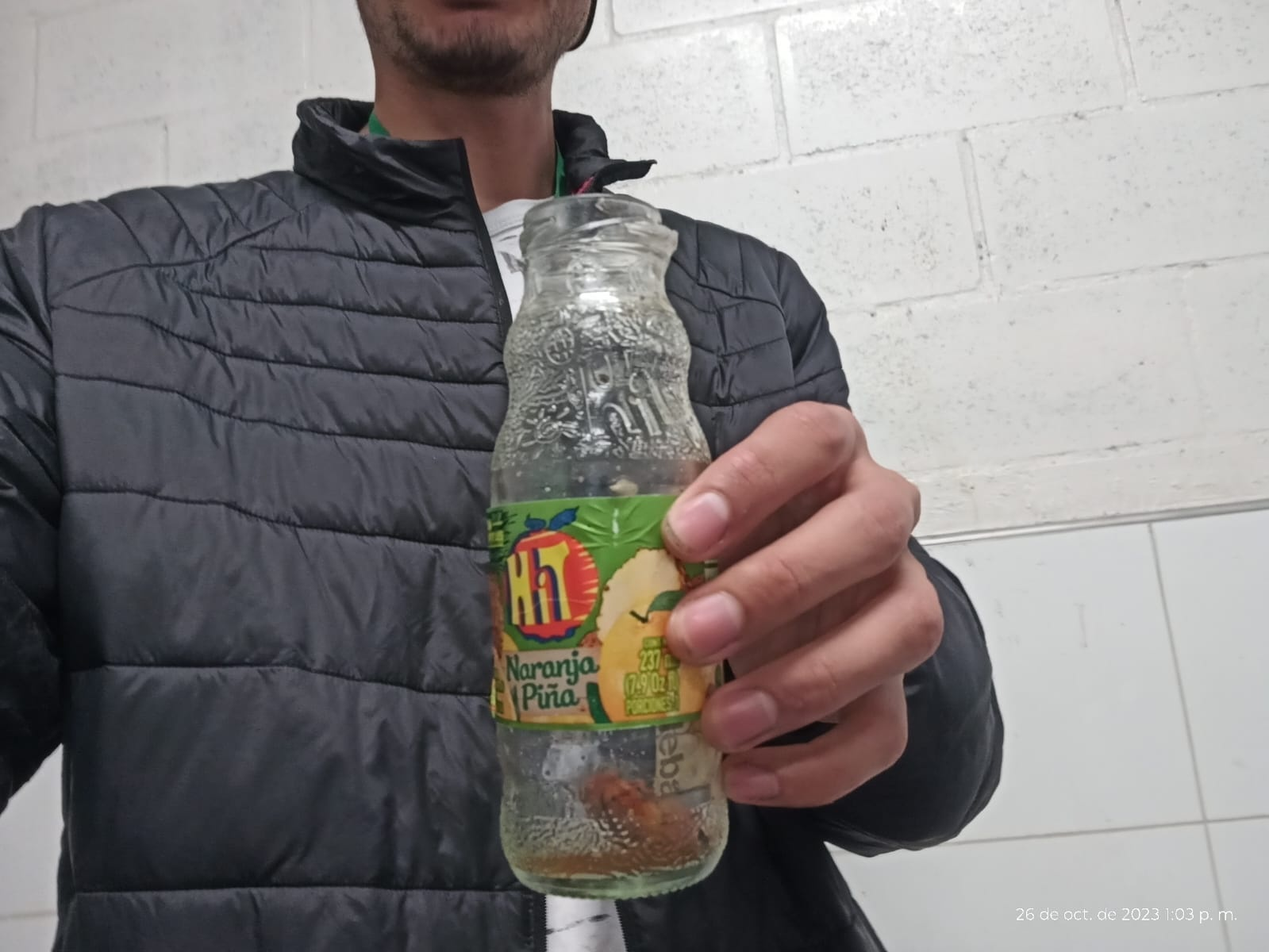Vidrio: (490, 194, 728, 899)
